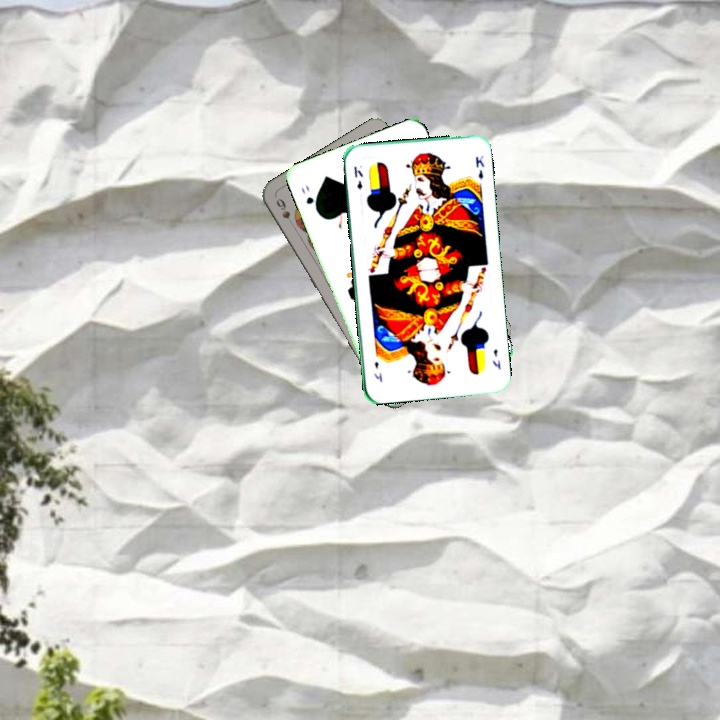EK: (349, 162, 366, 192), (488, 345, 503, 372)
GO: (297, 181, 321, 215)
S9: (272, 194, 298, 231)
